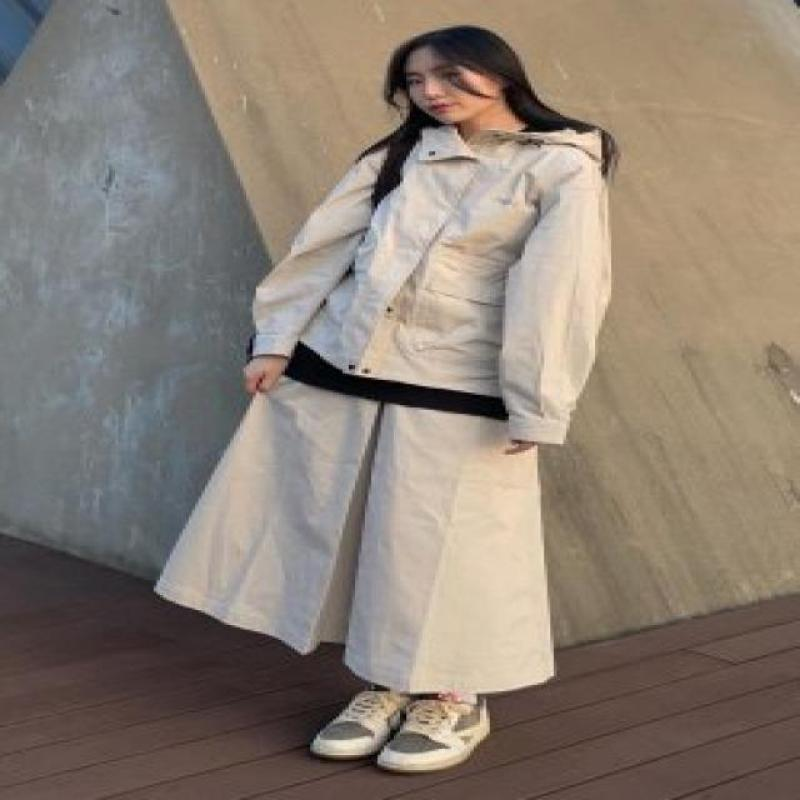jacket: (248, 114, 619, 449)
skirt: (152, 373, 560, 700)
